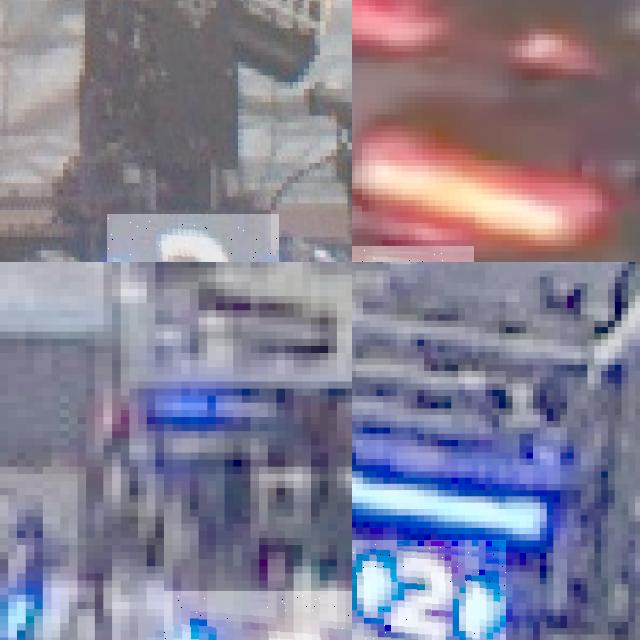B1: (164, 591, 352, 640)
B2: (352, 540, 505, 640)
B3: (106, 213, 279, 262)
